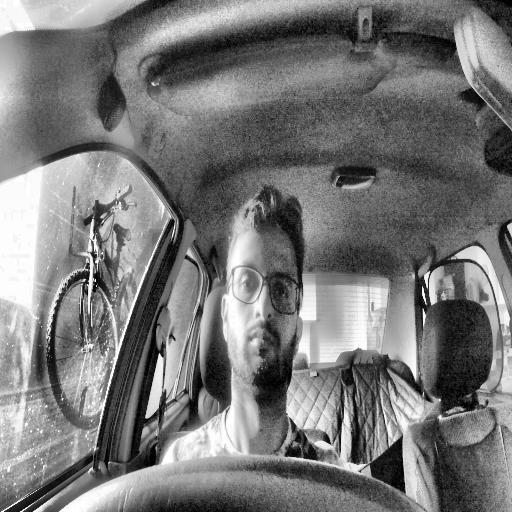awake: (222, 187, 304, 399)
